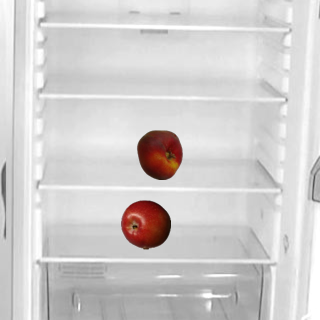Apple Braeburn: (120, 199, 170, 249)
Nectarine Flat: (134, 129, 184, 179)
